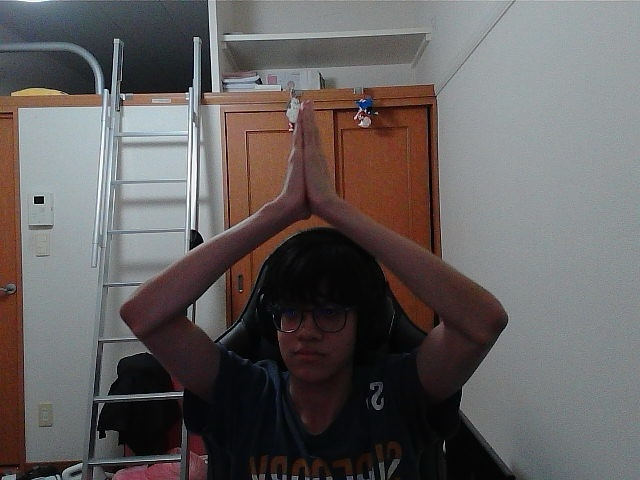pray: (299, 114, 320, 206)
